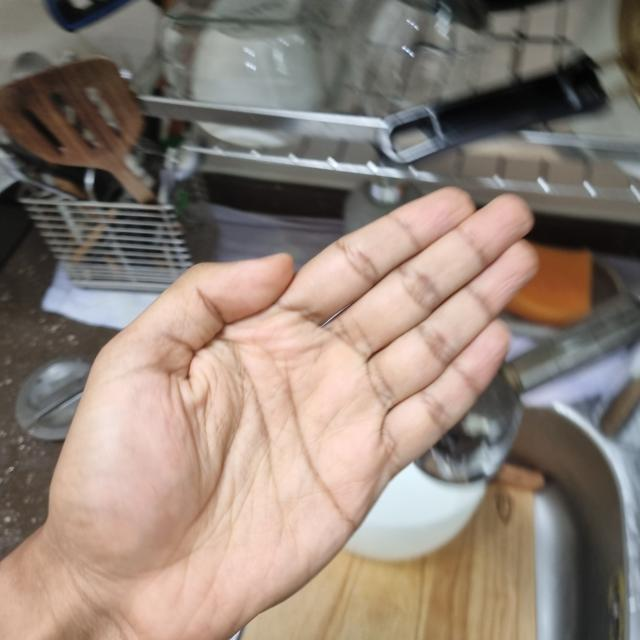Paper: (2, 58, 542, 638)
